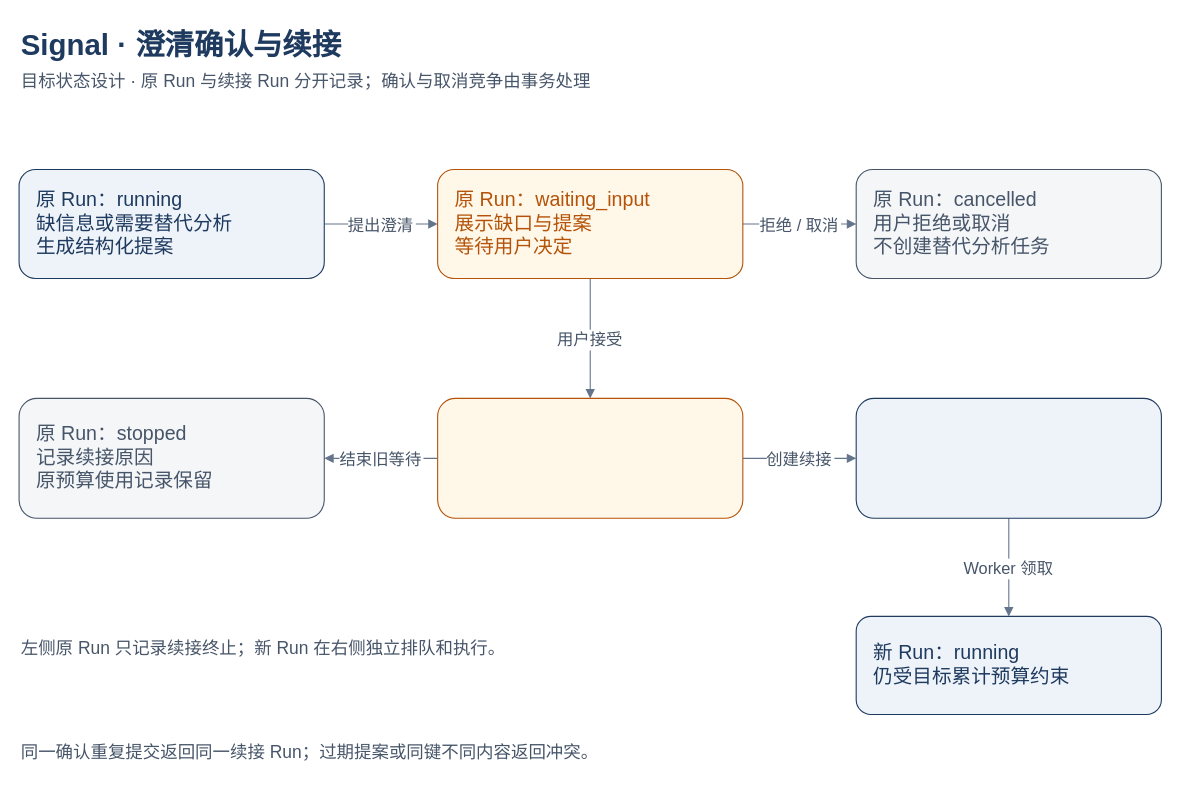
The diagram is 1180 pixels wide and 785 high, and some of its shapes have lost their labels. Each missing label, with the box of its shape:
新 Run：queued 绑定生效合同 关联 parent_run_id: (855, 397, 1161, 518)
确认事务 锁定 Goal 与提案 检查版本、身份与幂等键: (437, 397, 743, 518)
